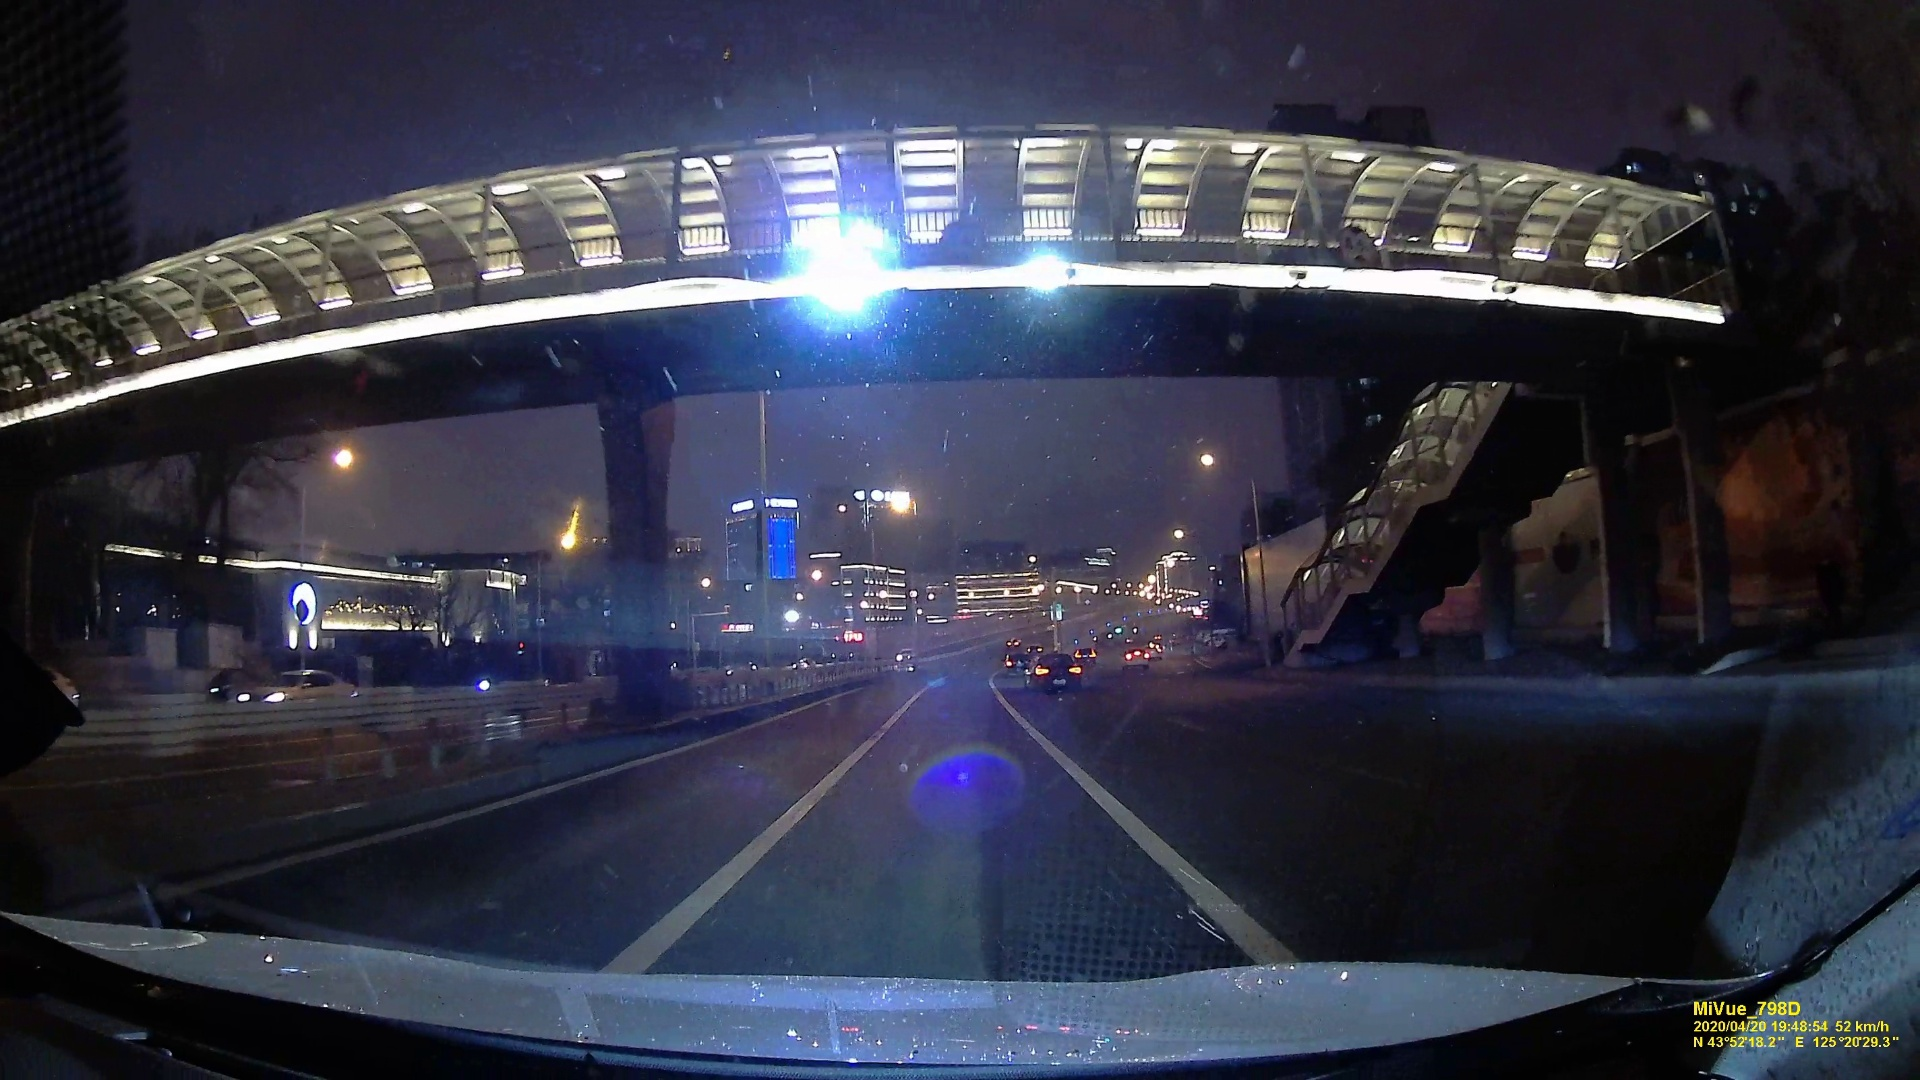vehicle: (239, 665, 351, 708), (1025, 651, 1081, 695), (1124, 646, 1150, 671)
